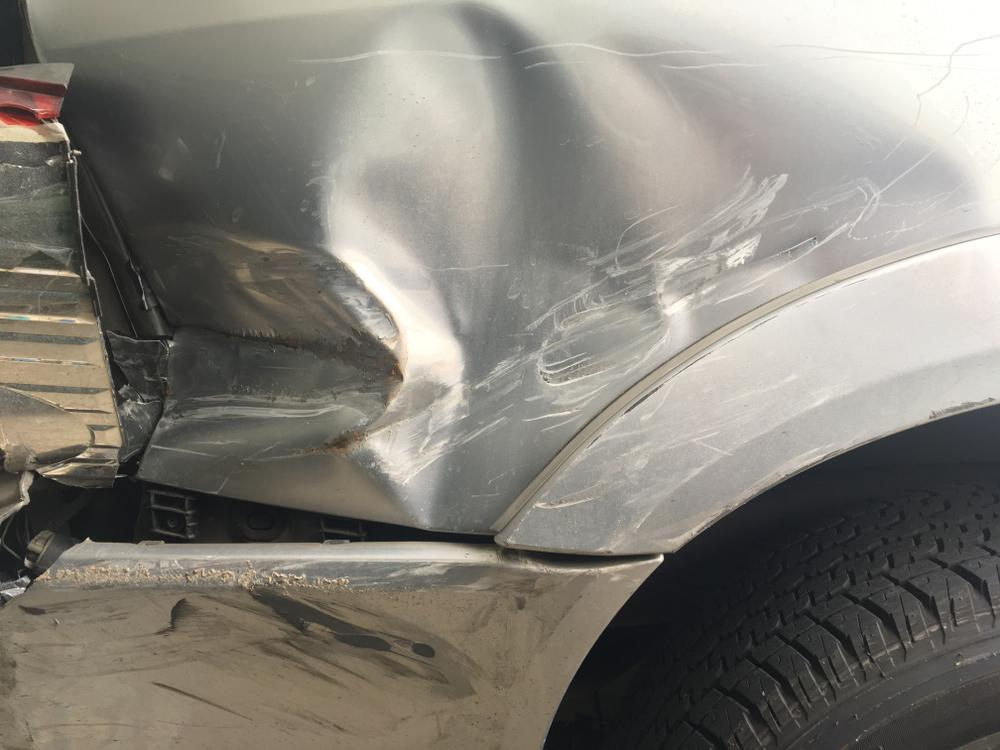dent: (71, 0, 992, 535)
scratch: (0, 560, 521, 736), (511, 350, 857, 542)
